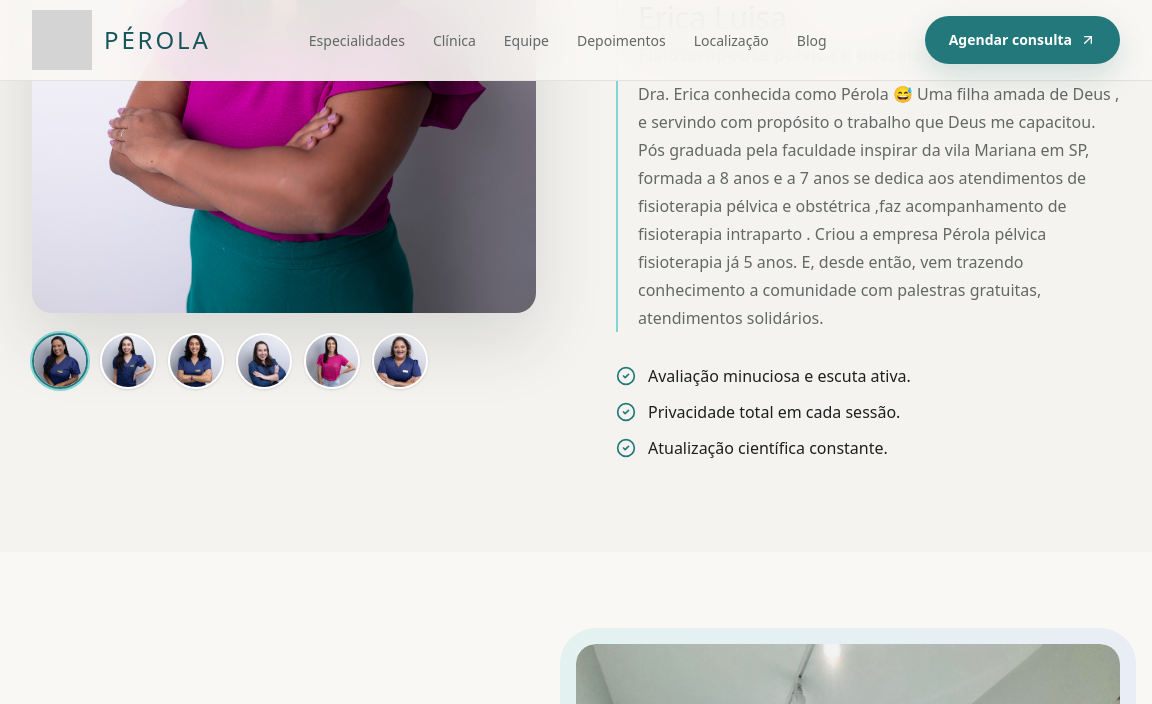
Scenario: LandingPage › updates selected professional details from the team portraits
(page scrolled)
Click the 2nd button titled "Bianca Fernandes - Fisioterapeuta pélvica". click: (128, 361)
box: 100,333 -> 156,389
(page scrolled)
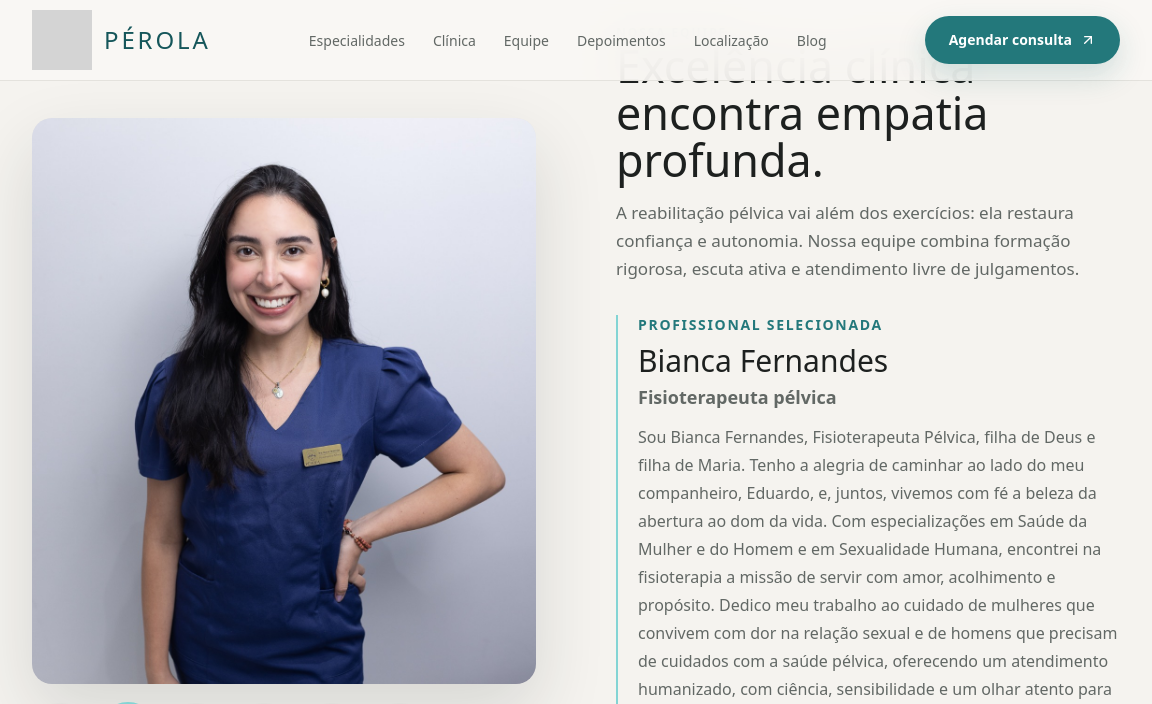
Check: the heading "Bianca Fernandes" is shown, box 638,340 -> 888,381
